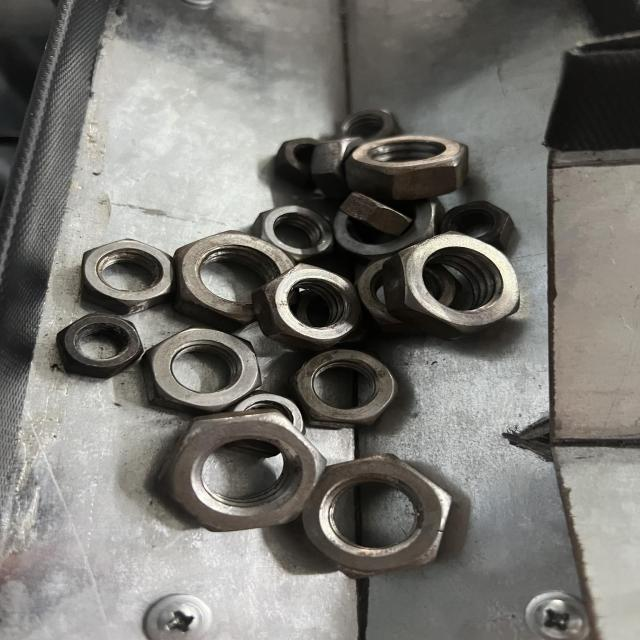nut: (158, 412, 324, 534), (384, 231, 521, 333), (147, 326, 261, 412), (82, 239, 176, 313), (56, 314, 144, 378)
